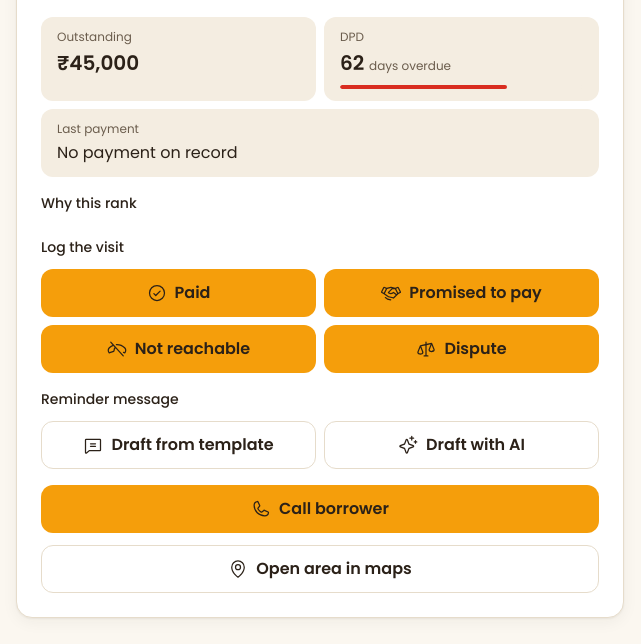
Test: reminder panel › labels AI-written text so the officer knows to read it
(page scrolled)
Click the button "Draft with AI" at (462, 445), box 324,421 -> 599,469
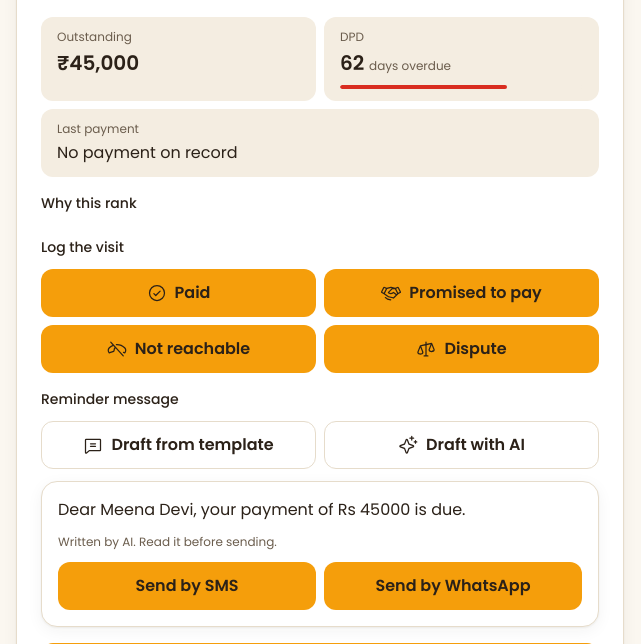
Expected: the text "Written by AI. Read it before sending." is shown, 58,533 -> 277,550
